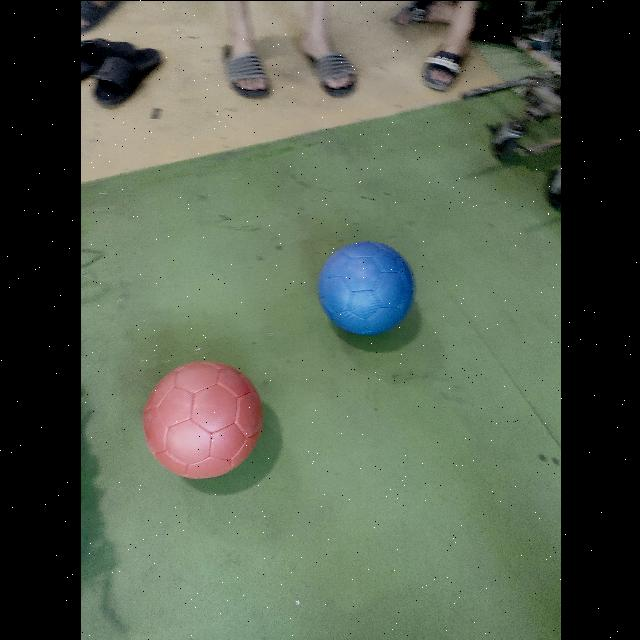B: (316, 241, 416, 339)
R: (140, 361, 263, 481)
